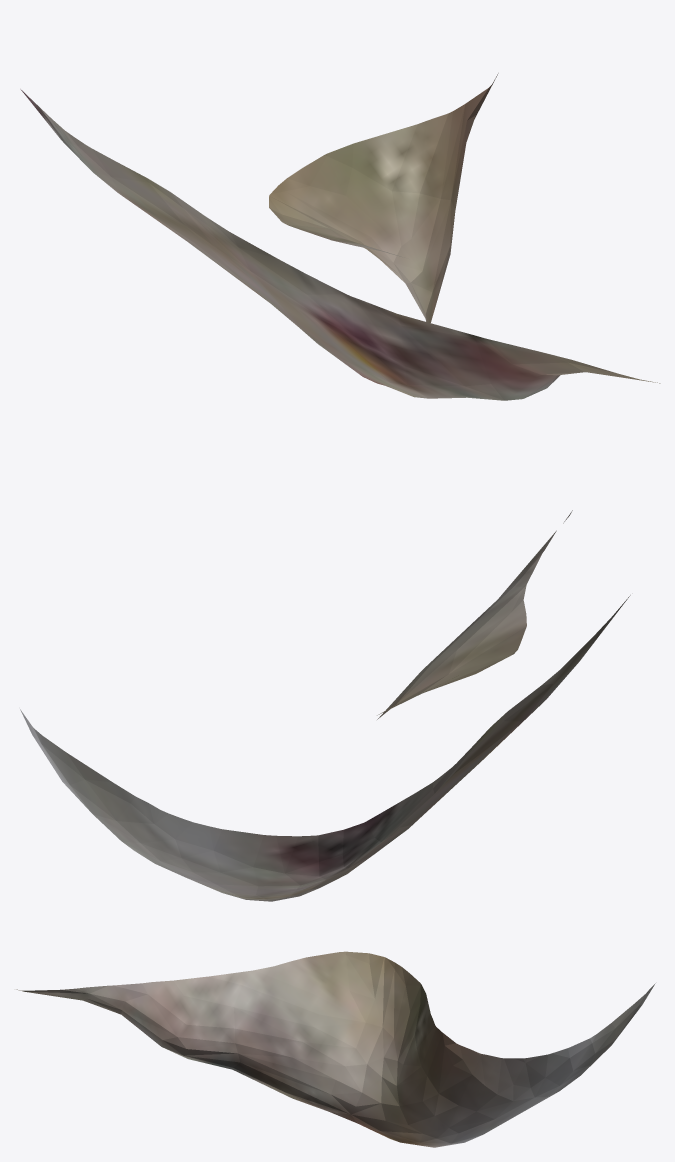
3 views of the same model, one above another, from view 1: azimuth 30°, elevation 25°; view 2: azimuth 150°, elevation 25°; view 3: azimuth 270°, elevation 25° (orthographic). The views are drawn at different scales.
Bounding box in the file's own units: 45.87 × 23.97 × 97.81.
1 material, 1 textured.
